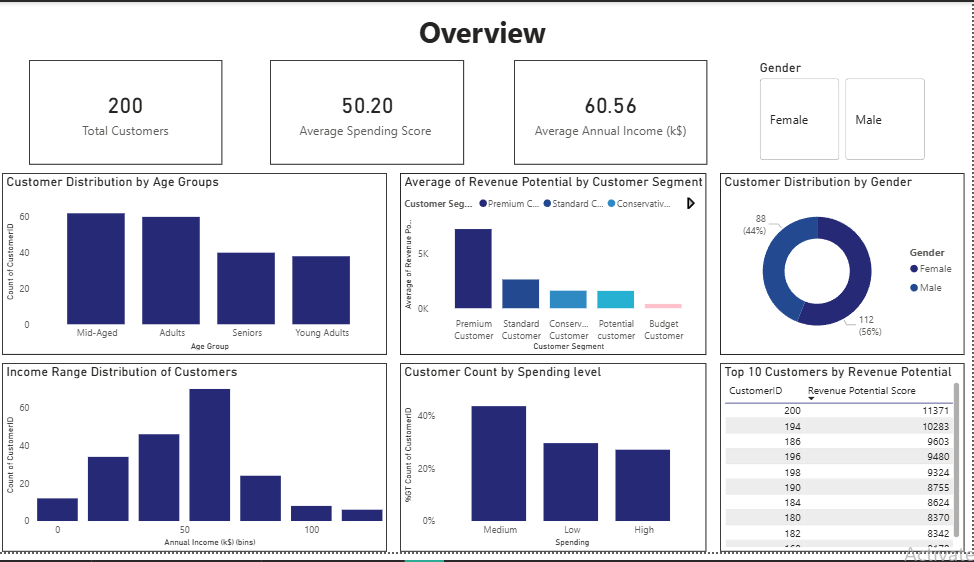

What the dashboard file says about the page in this screenshot:
{"tool":"powerbi","page":{"name":"Overview","canvas":[1280,720],"ordinal":0},"visuals":[{"type":"card","fields":{"Values":["CountNonNull(Mall_Customers.CustomerID)"]},"box":[45.6,76.4,252.7,136.7],"z":0},{"type":"card","fields":{"Values":["Avg(Mall_Customers.Spending Score (1-100))"]},"box":[361.5,76.4,254.2,136.7],"z":1},{"type":"card","fields":{"Values":["Avg(Mall_Customers.Annual Income (k$))"]},"box":[680.3,76.4,252.7,136.7],"z":2},{"type":"donutChart","title":"Customer Distribution by Gender","fields":{"Category":["Mall_Customers.Gender"],"Y":["CountNonNull(Mall_Customers.Gender)"]},"box":[950.7,223.3,320.3,238],"z":3},{"type":"textbox","box":[30.3,9.6,1218.1,66.1],"z":4},{"type":"columnChart","title":"Customer Distribution by Age Groups","fields":{"Category":["Mall_Customers.Age Group"],"Y":["CountNonNull(Mall_Customers.CustomerID)"]},"box":[10.3,223.3,504,238],"z":5},{"type":"columnChart","title":"Income Range Distribution of Customers","fields":{"Y":["CountNonNull(Mall_Customers.CustomerID)"],"Category":["Mall_Customers.Annual Income (k$) (bins)"]},"box":[10.3,473.1,504,246.9],"z":6},{"type":"columnChart","title":"Customer Count by Spending level","fields":{"Y":["CountNonNull(Mall_Customers.CustomerID)"],"Category":["Mall_Customers.Spending"]},"box":[531.9,473.1,401.1,246.9],"z":7},{"type":"tableEx","title":"Top 10 Customers by Revenue Potential","fields":{"Values":["Mall_Customers.CustomerID","Mall_Customers.Revenue Potential Score"]},"box":[950.7,473.1,320.3,246.9],"z":8},{"type":"columnChart","title":"Average of Revenue Potential by Customer Segment","fields":{"Y":["Avg(Mall_Customers.Revenue Potential Score)"],"Category":["Mall_Customers.Customer Segment"],"Series":["Mall_Customers.Customer Segment"]},"box":[531.9,223.3,401.1,238],"z":9},{"type":"advancedSlicerVisual","fields":{"Values":["Mall_Customers.Gender"]},"box":[997.7,76.4,226.3,136.7],"z":10}]}

Visuals, with their boxes in screenshot pixels (x1, y1, x2, y2), scaled from the page's 1280x720 canvas onto the 974x562 screenshot:
card - CountNonNull(Mall_Customers.CustomerID): 35/60/227/166
card - Avg(Mall_Customers.Spending Score (1-100)): 275/60/469/166
card - Avg(Mall_Customers.Annual Income (k$)): 518/60/710/166
"Customer Distribution by Gender" donutChart: 723/174/967/360
textbox: 23/7/950/59
"Customer Distribution by Age Groups" columnChart: 8/174/391/360
"Income Range Distribution of Customers" columnChart: 8/369/391/561
"Customer Count by Spending level" columnChart: 405/369/710/561
"Top 10 Customers by Revenue Potential" tableEx: 723/369/967/561
"Average of Revenue Potential by Customer Segment" columnChart: 405/174/710/360
advancedSlicerVisual - Mall_Customers.Gender: 759/60/931/166
